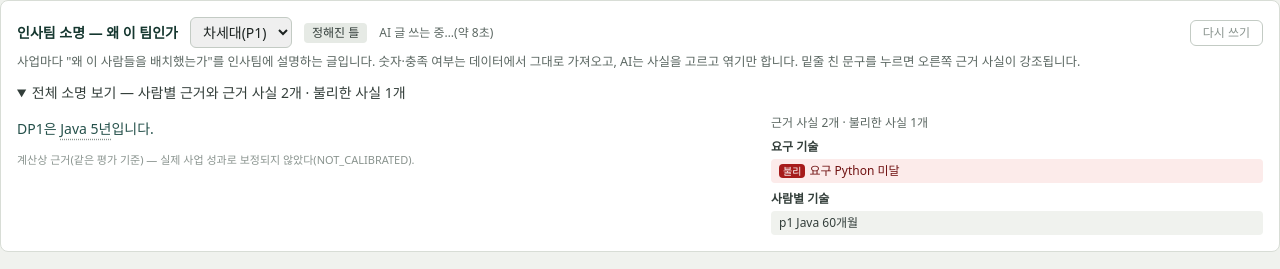
JustificationPanel › AI 글을 기다리는 동안 사업을 바꾸면 이전 사업의 늦은 응답을 버린다
Expected: the button with aria-label "근거 보기: Java 5년" is shown, [60,115,111,143]
Select "포털(P2)" in the dropdown named "소명 사업" at (241,32), box [190,17,292,48]
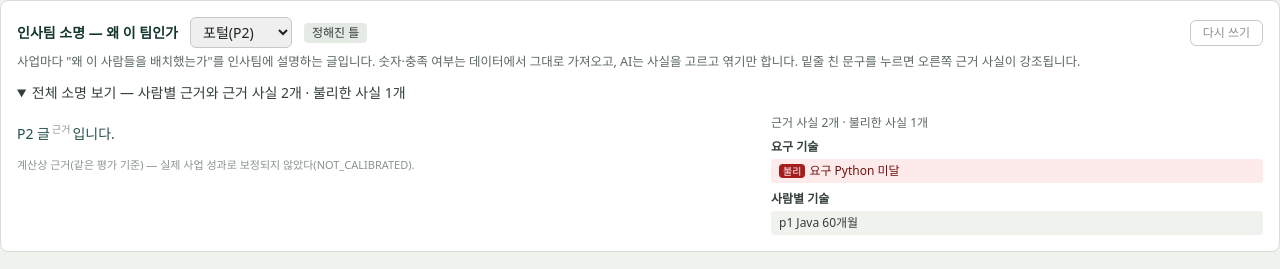
Result: the text "P2 글" is shown at [17,124,50,143]
